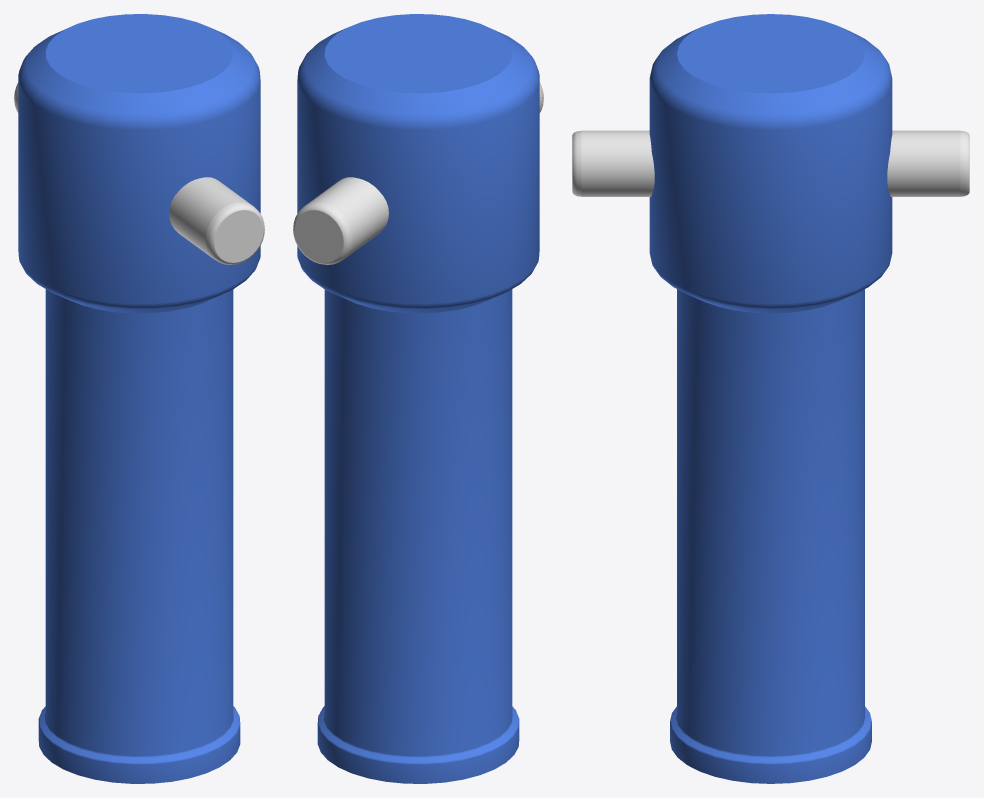
File: cylinder_top.fbx
3 renders of one model, left to right at view 1: azimuth 30°, elevation 25°; view 2: azimuth 150°, elevation 25°; view 3: azimuth 270°, elevation 25°, orthographic.
Parts seen in each view (by area): view 1: Cylinder, Axis_A.002; view 2: Cylinder, Axis_A.002; view 3: Cylinder, Axis_A.002.
Boxes of the visible parts, box(x1,y1,x2,y2) form: Cylinder: box(18, 14, 260, 783); Axis_A.002: box(14, 82, 264, 264); Cylinder: box(297, 14, 539, 783); Axis_A.002: box(293, 82, 543, 264); Cylinder: box(649, 14, 892, 783); Axis_A.002: box(572, 130, 969, 196).
Bounding box in the file's own units: 18.34 × 57.27 × 30.
